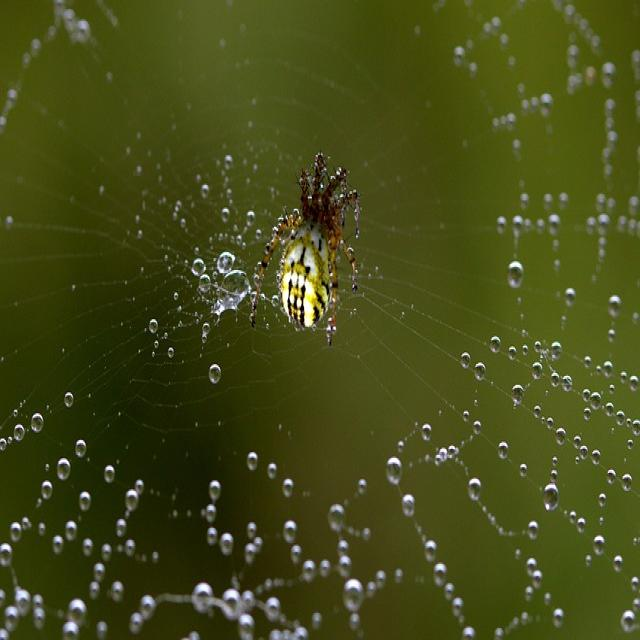spyder: (250, 152, 361, 348)
